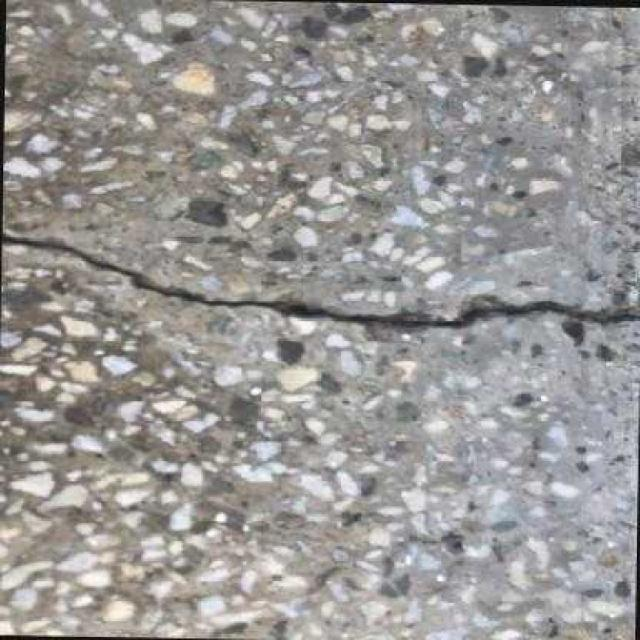D00: (1, 232, 640, 325)
